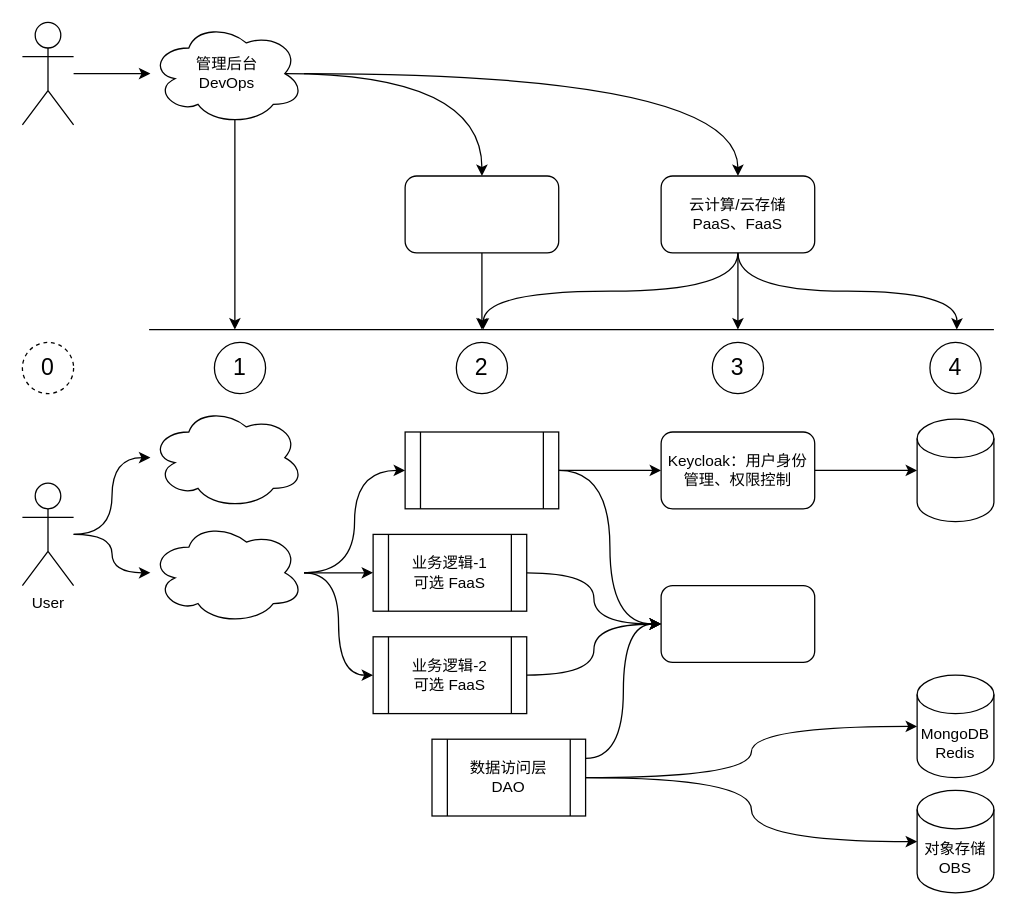
This 1018x915 diagram has some shape labels left out. Each missing label, with the box of its shape:
Admin: (21, 21, 74, 125)
API网关 API Gateway: (149, 520, 304, 624)
Jenkins：自动化打包平台: (404, 175, 559, 253)
MySQL: (916, 418, 994, 522)
Nacos Dubbo/gRPC: (660, 584, 815, 662)
用户管理 登陆注册、鉴权: (404, 431, 559, 509)
获取服务器列表 server list: (149, 405, 304, 509)
